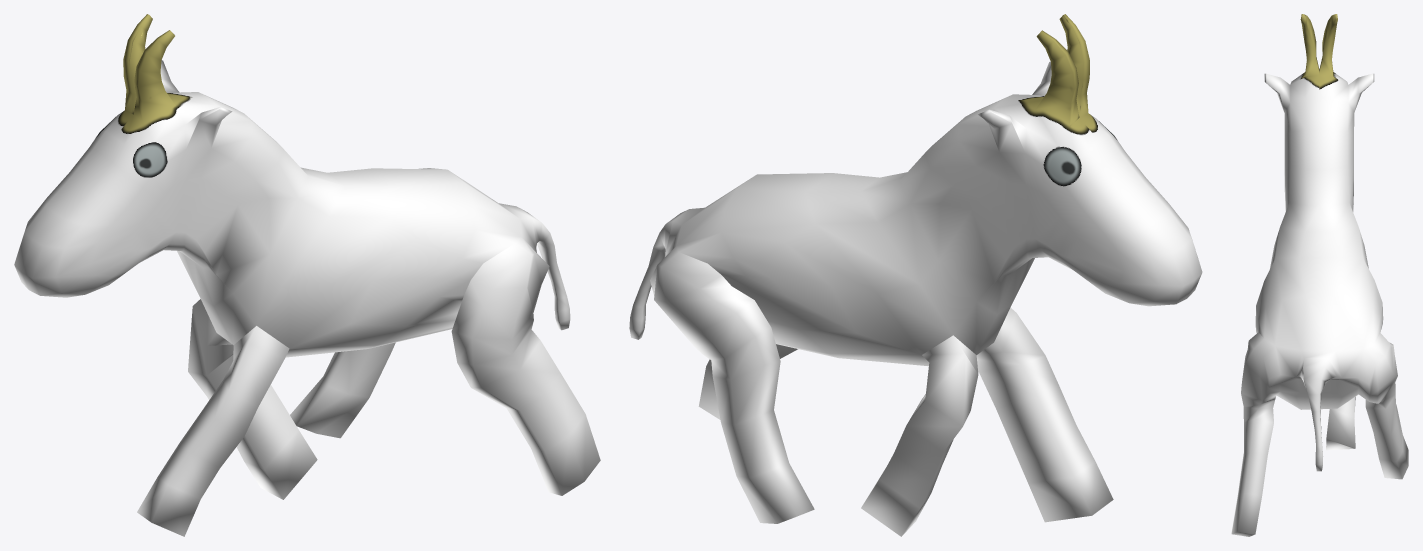
The model's file is goatAnim_000016.obj.
The picture shows the model from 3 angles, left to right: view 1: azimuth 30°, elevation 25°; view 2: azimuth 150°, elevation 25°; view 3: azimuth 270°, elevation 25°; orthographic projection. The views are drawn at different scales.
Parts seen in each view (by area): view 1: Cube; view 2: Cube; view 3: Cube.
Part boxes in pixels (x1,y1,x2,y2): Cube: (14,14,600,536); Cube: (629,14,1202,536); Cube: (1231,14,1408,536).
Size of the model in its own units: 1.31 by 1.19 by 0.4842.
